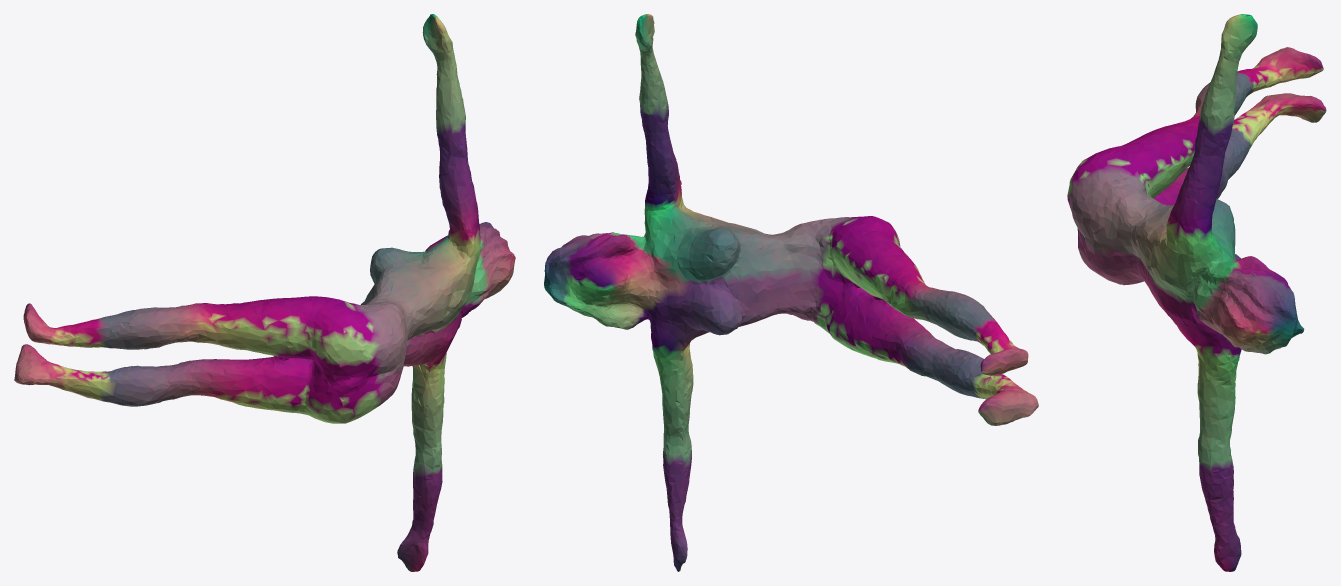
The model's file is woman-5.off.obj.
3 views of the same model, side by side, from view 1: azimuth 30°, elevation 25°; view 2: azimuth 150°, elevation 25°; view 3: azimuth 270°, elevation 25° (orthographic). The views are drawn at different scales.
Size of the model in its own units: 1.47 by 1.58 by 0.6498.
